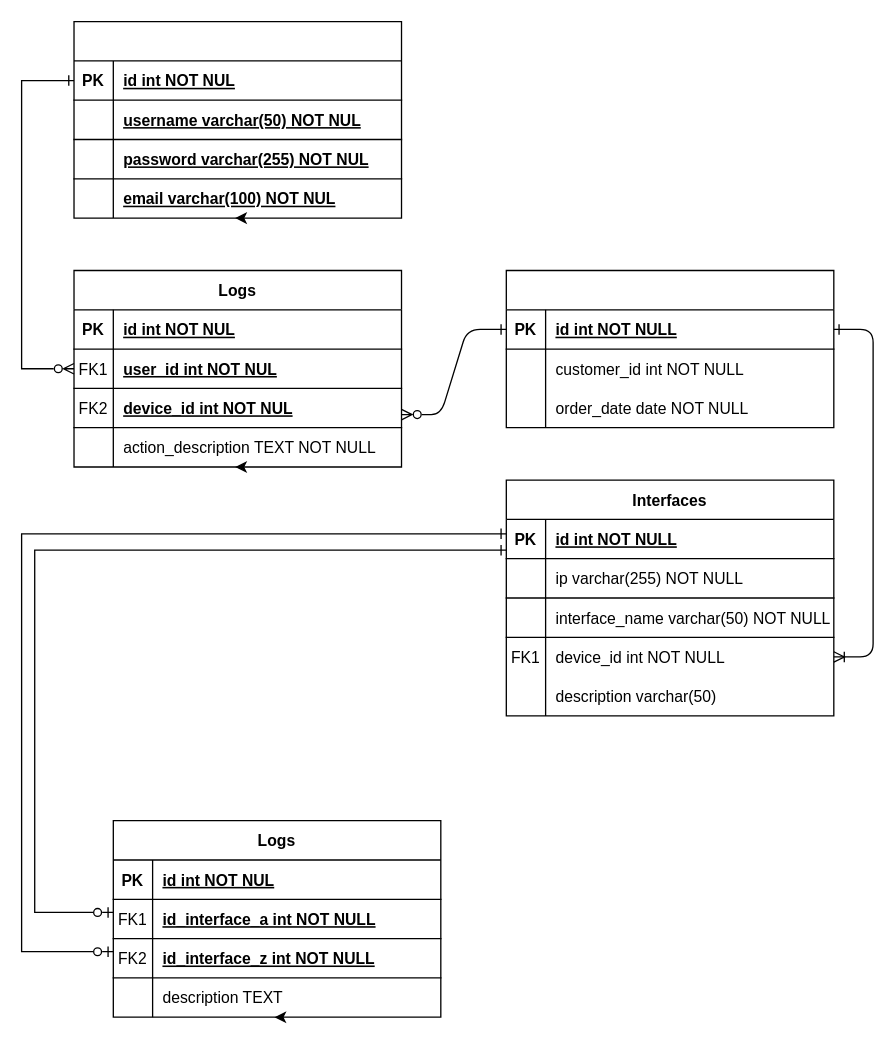
Some shapes in this 895 by 1043 pixel diagram are drawn without their labels. The box of each missing label's shape, as (x1, y1, x2, y2) in pixels:
Devices: (505, 269, 834, 428)
Users: (73, 20, 402, 218)
